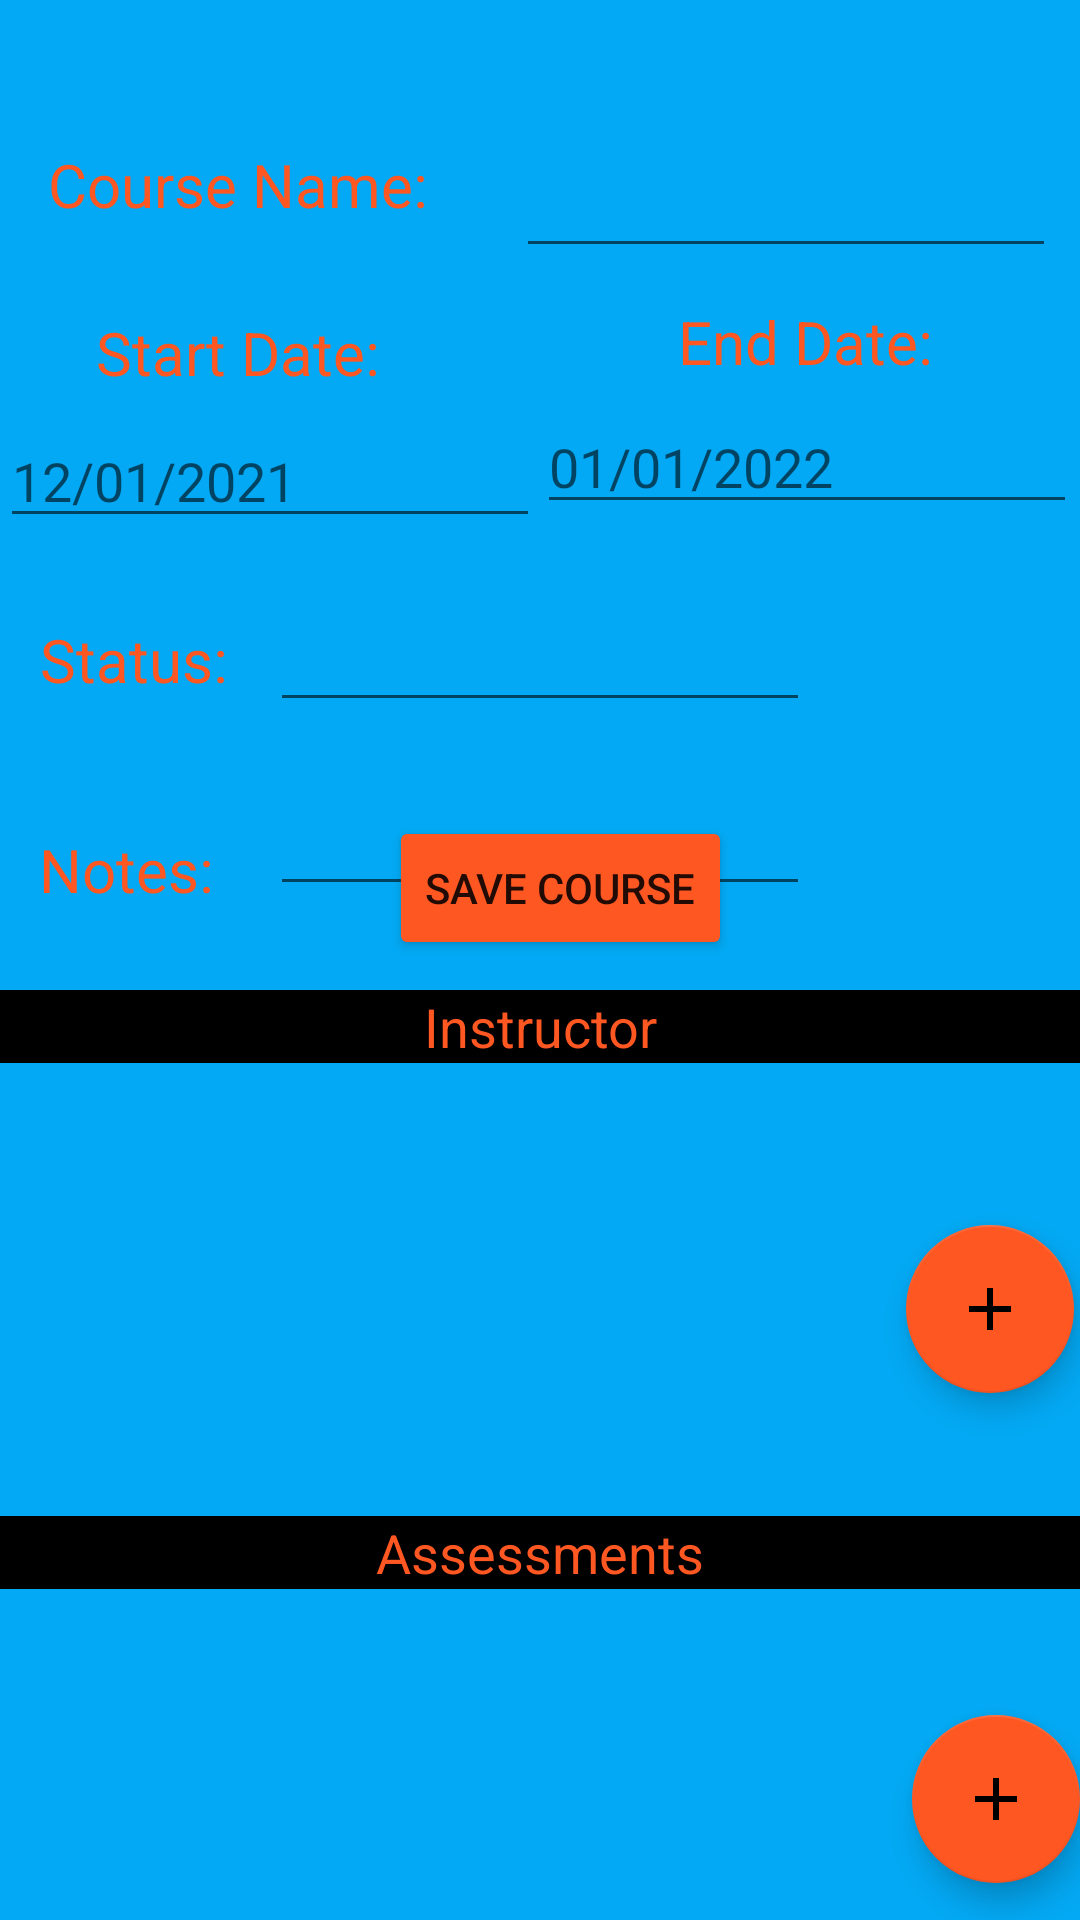

Named icons in this screenshot (1080w x 1920h) and their bounding boxes, (x1, y1, x2, y2):
add menu: (906, 1225, 1074, 1393), (912, 1715, 1080, 1883)
